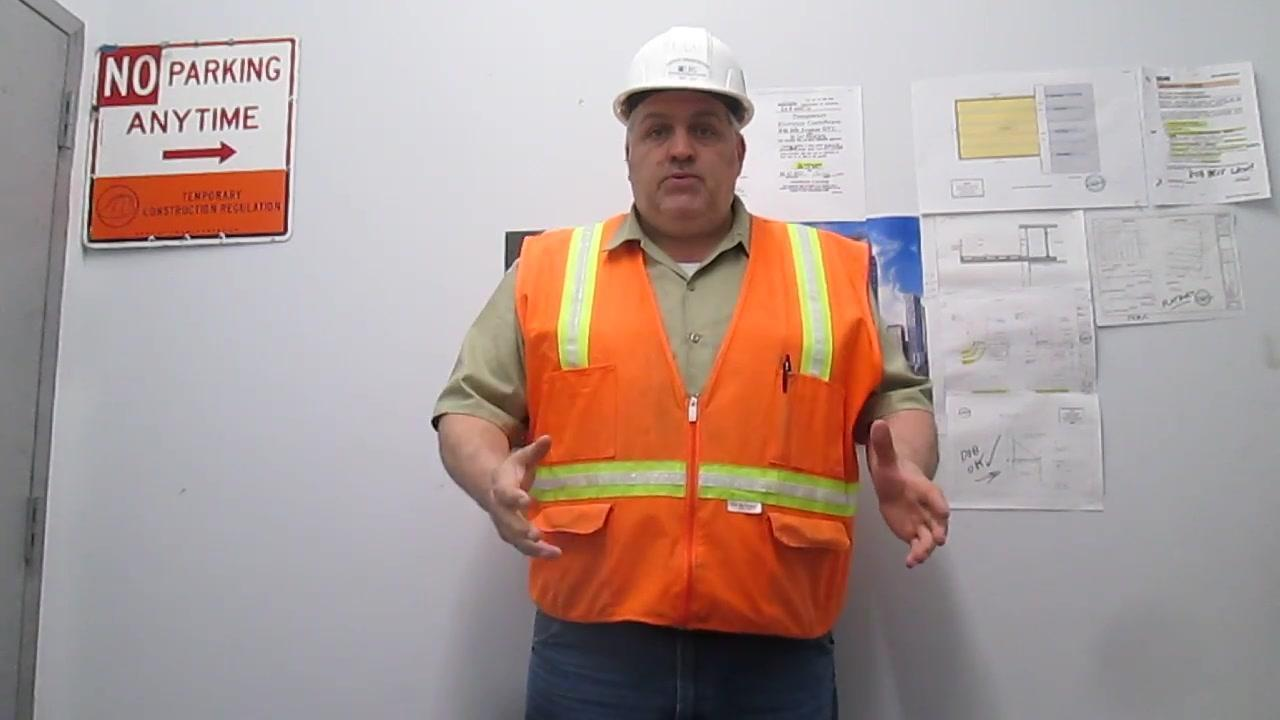vest: (515, 207, 885, 642)
